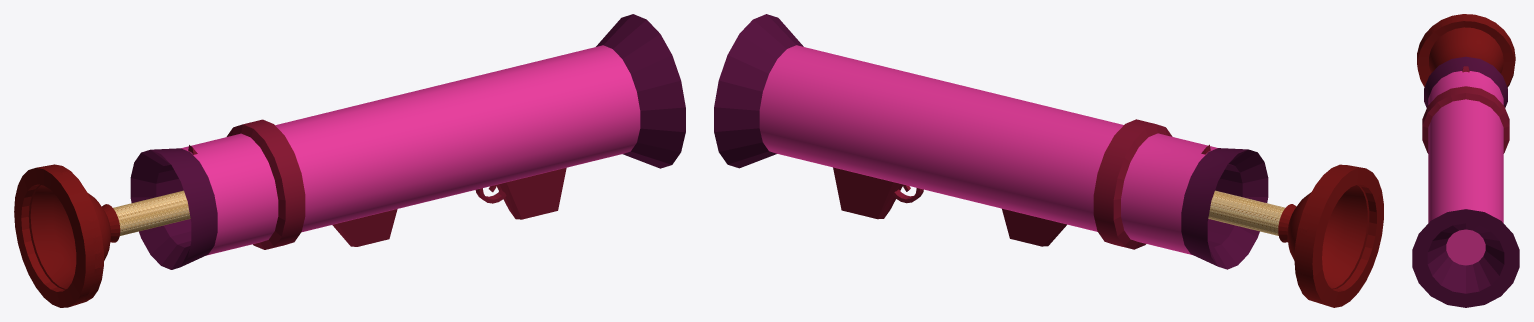
The model's file is y4bazookaPink.fbx.
3 views of the same model, side by side, from view 1: azimuth 30°, elevation 25°; view 2: azimuth 150°, elevation 25°; view 3: azimuth 270°, elevation 25° (orthographic). The views are drawn at different scales.
Visible parts, largest first — view 1: Cylinder001, Sphere001; view 2: Cylinder001, Sphere001; view 3: Cylinder001, Sphere001.
Part boxes in pixels (left/top/right/bottom): Cylinder001: left=130, top=14, right=685, bottom=269; Sphere001: left=14, top=164, right=190, bottom=307; Cylinder001: left=714, top=14, right=1268, bottom=269; Sphere001: left=1208, top=164, right=1383, bottom=307; Cylinder001: left=1412, top=56, right=1519, bottom=307; Sphere001: left=1417, top=14, right=1515, bottom=87.
Size of the model in its own units: 48.75 by 13.06 by 11.02.
Materials: 5 (1 with a texture image).
